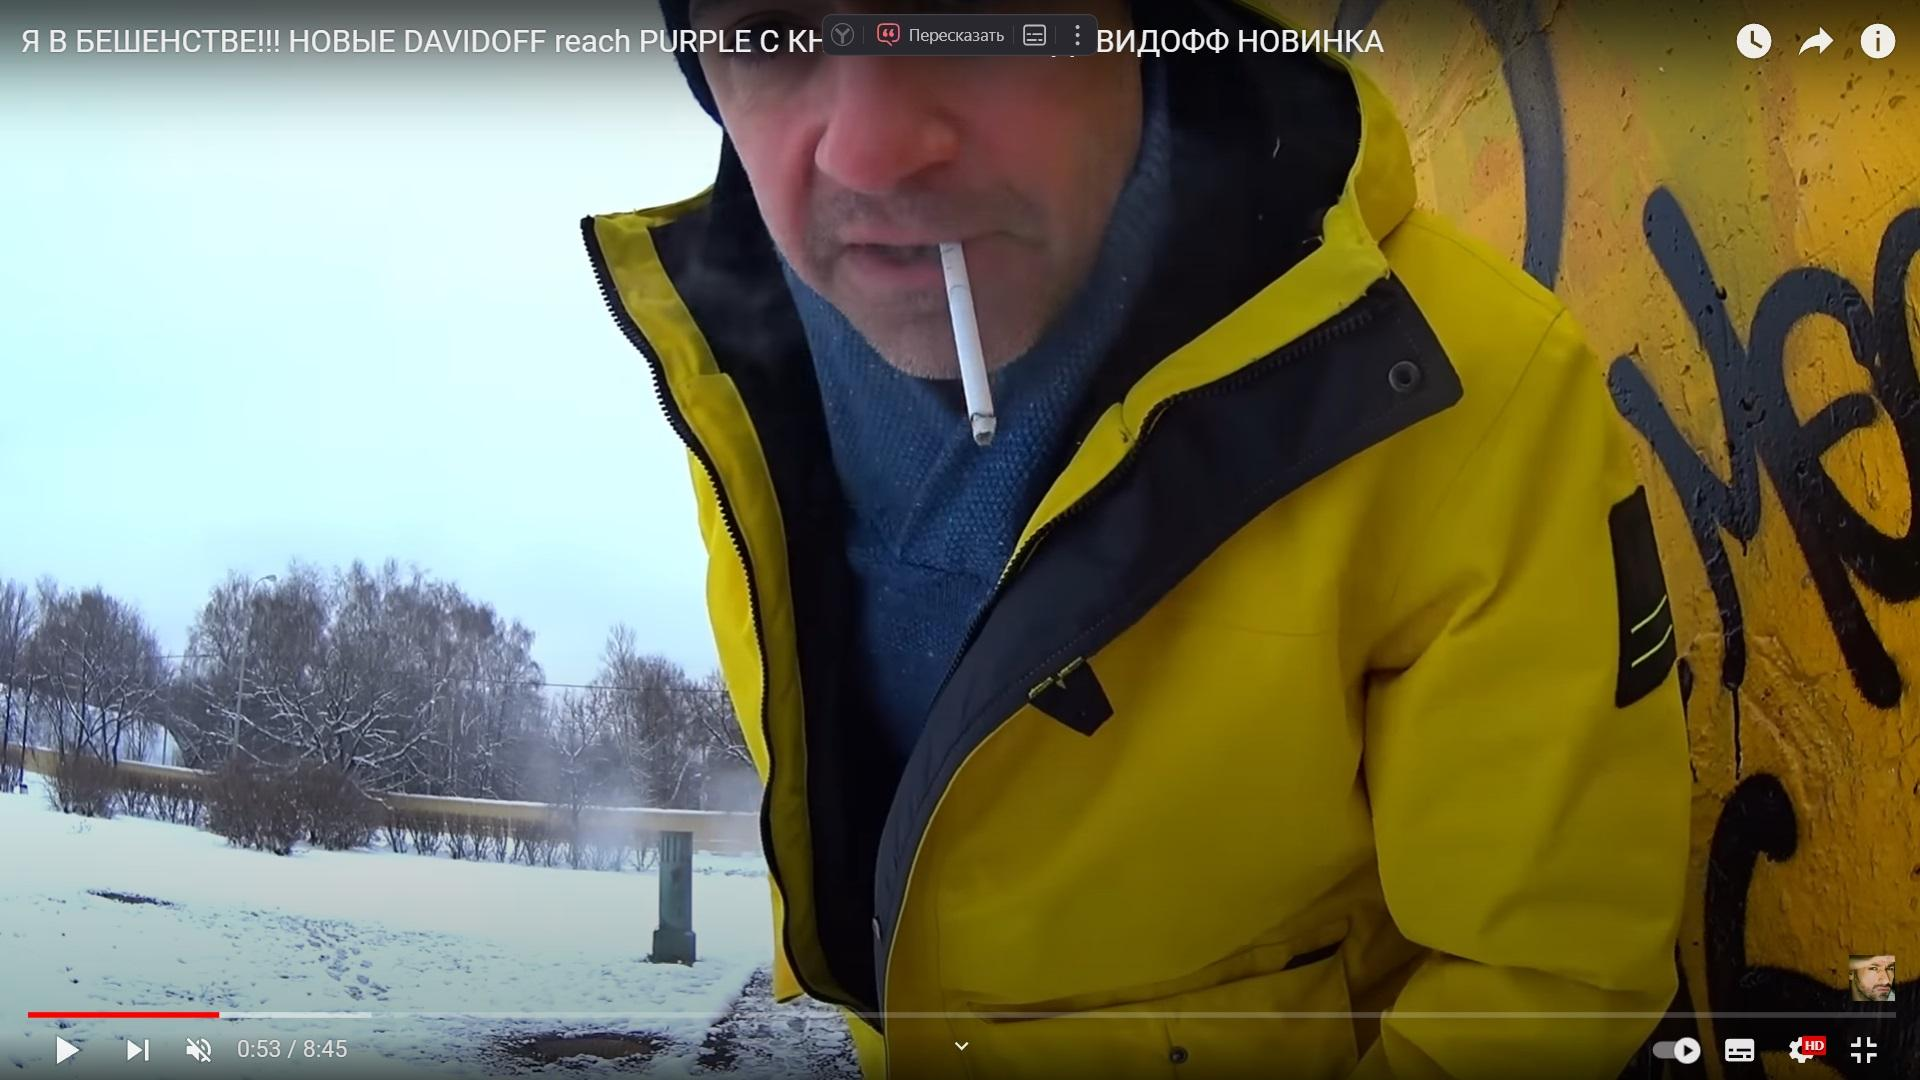cigarette: (939, 240, 997, 447)
